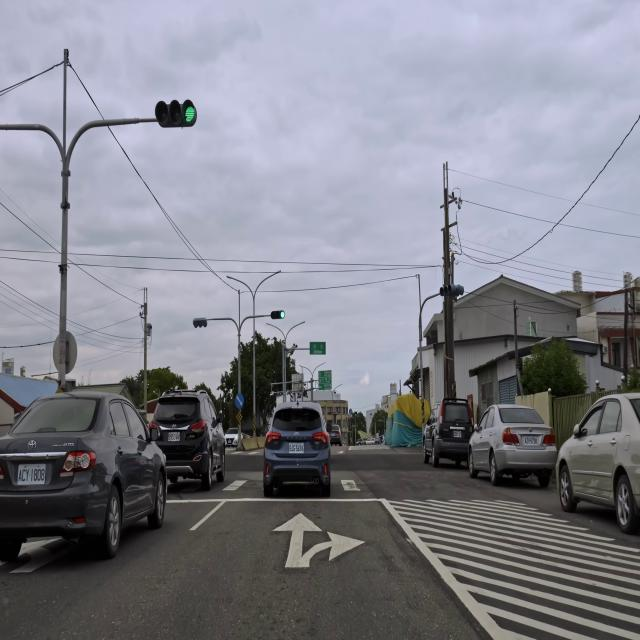green light: (154, 100, 197, 128), (270, 310, 285, 320)
